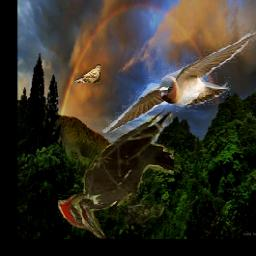Sparrow: (75, 65, 101, 84)
Swallow: (103, 29, 256, 133)
Woodpecker: (58, 110, 174, 239)
